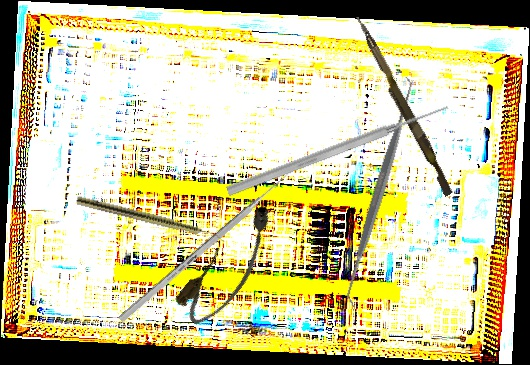Cannula: (170, 198, 291, 333)
Handpiece: (74, 195, 229, 244)
Pusher: (117, 164, 299, 324), (225, 100, 451, 199), (348, 15, 458, 197)
Spatula Surgical: (332, 75, 427, 309)
